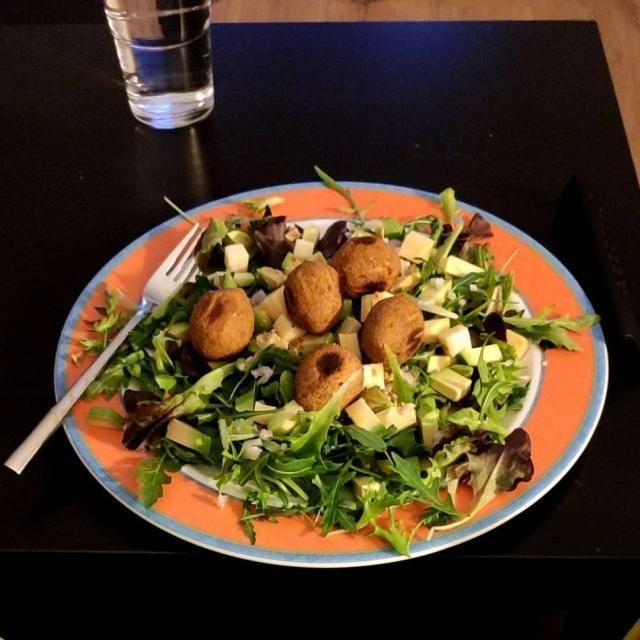falafel-balls: (194, 240, 423, 411)
salad: (90, 205, 532, 526)
water: (108, 10, 213, 125)
